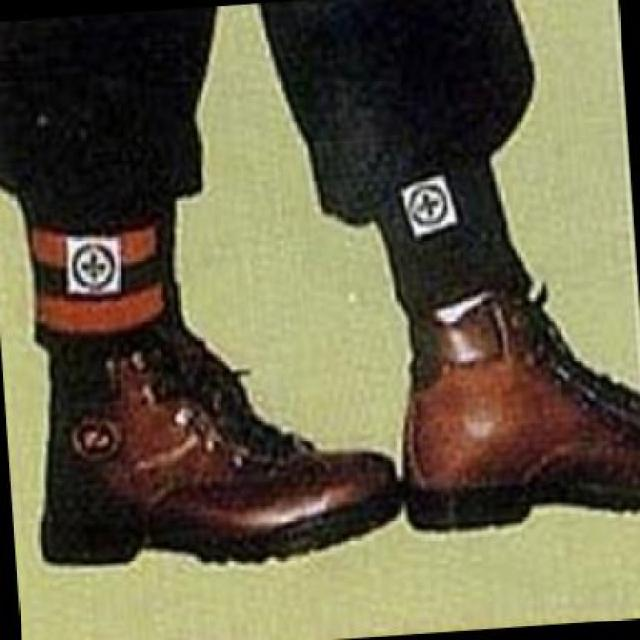Safety Boots: (38, 292, 400, 562), (405, 292, 640, 528)
